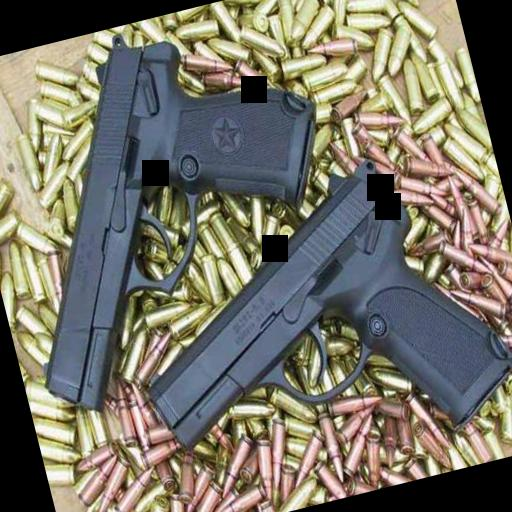Handgun: (0, 0, 376, 426), (104, 135, 512, 488)
